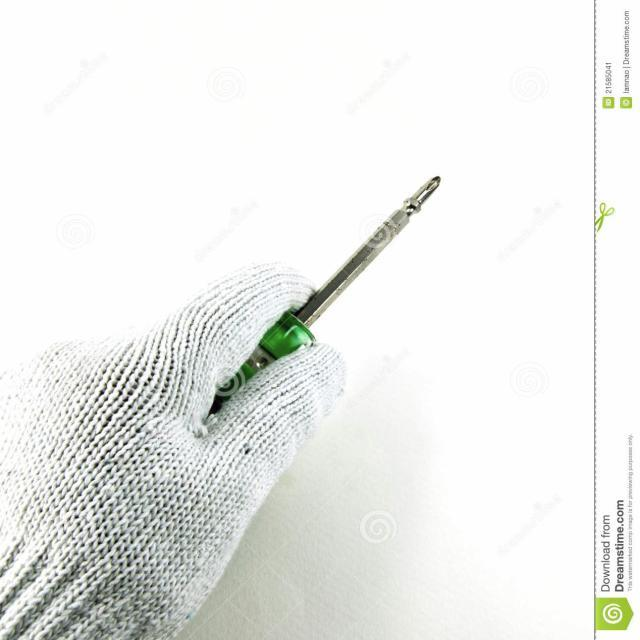screwdriver: (210, 172, 448, 416)
